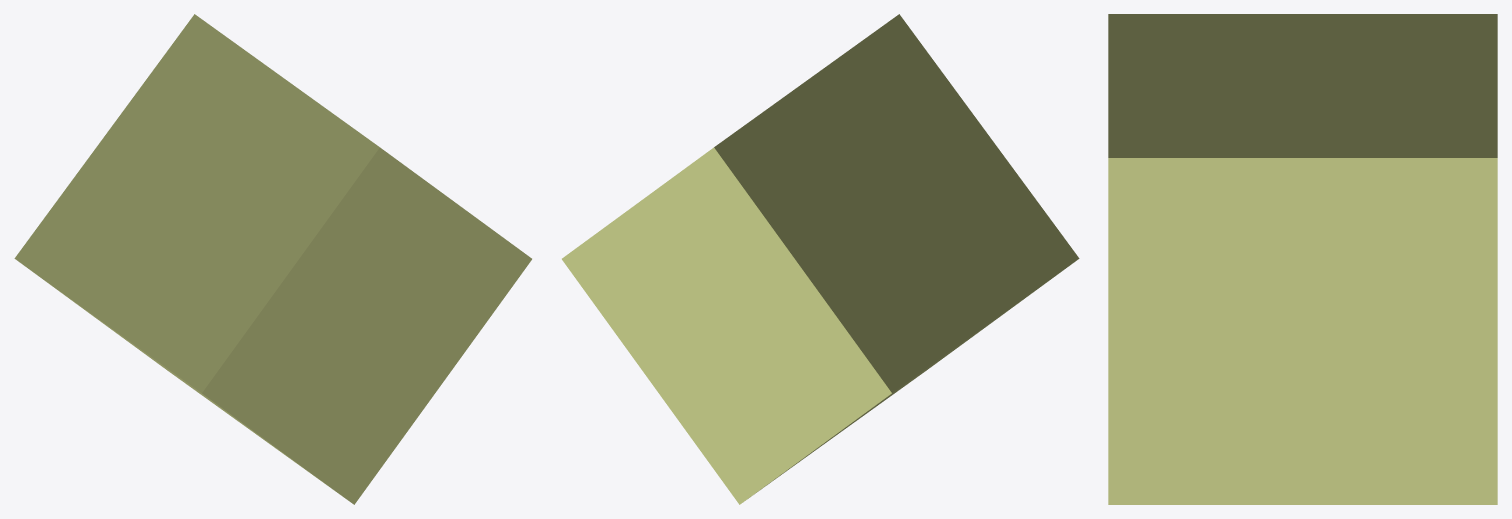
The picture shows the model from 3 angles, left to right: view 1: azimuth 30°, elevation 25°; view 2: azimuth 150°, elevation 25°; view 3: azimuth 270°, elevation 25°; orthographic projection. The views are drawn at different scales.
Parts seen in each view (by area): view 1: 0_1_2_0_3_0_2_1_3_0; view 2: 0_1_2_0_3_0_2_1_3_0; view 3: 0_1_2_0_3_0_2_1_3_0.
Boxes of the visible parts, left/top/right/bottom form: 0_1_2_0_3_0_2_1_3_0: left=14, top=14, right=531, bottom=504; 0_1_2_0_3_0_2_1_3_0: left=562, top=14, right=1079, bottom=504; 0_1_2_0_3_0_2_1_3_0: left=1108, top=14, right=1497, bottom=504.
Bounding box in the file's own units: 8.3 × 8.27 × 6.
